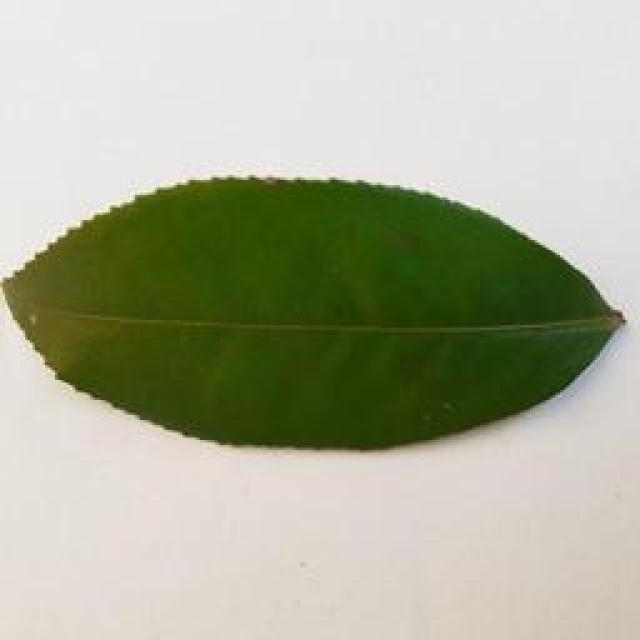Healthy: (1, 174, 639, 455)
